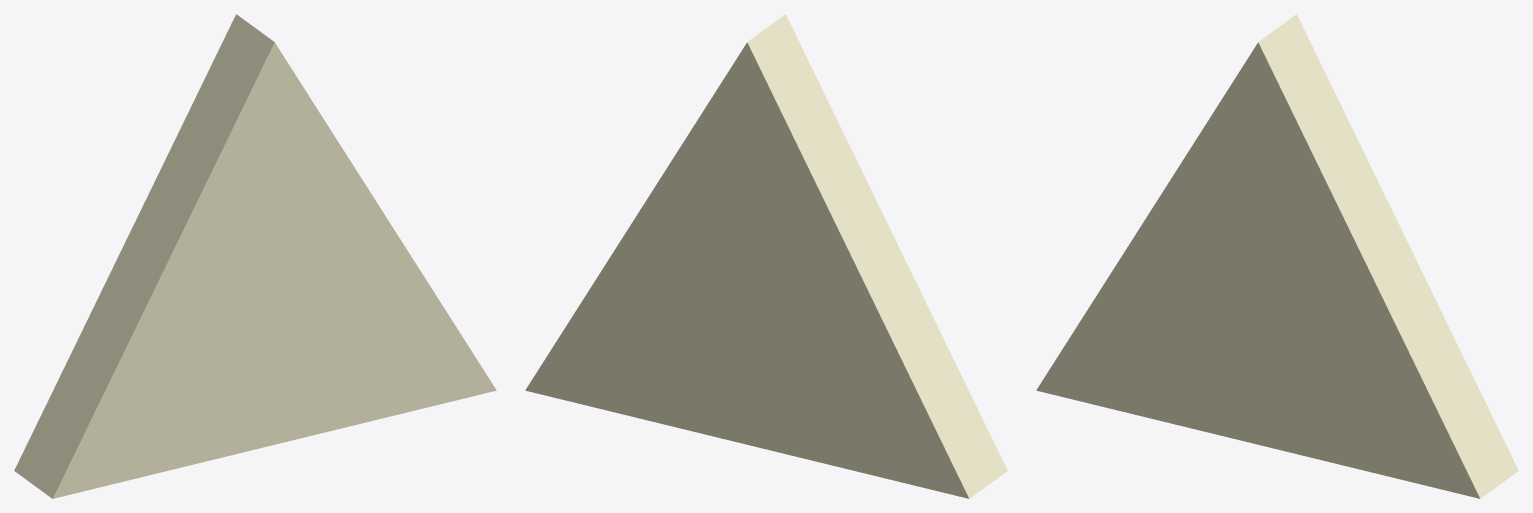
The model's file is Wall_Roof_60_Center.glb.
3 renders of one model, left to right at view 1: azimuth 30°, elevation 25°; view 2: azimuth 150°, elevation 25°; view 3: azimuth 330°, elevation 25°, orthographic.
Parts seen in each view (by area): view 1: Wall Roof 60 Center; view 2: Wall Roof 60 Center; view 3: Wall Roof 60 Center.
Part boxes in pixels (<box>): Wall Roof 60 Center: <box>14,14,496,498</box>; Wall Roof 60 Center: <box>525,14,1007,498</box>; Wall Roof 60 Center: <box>1036,14,1518,498</box>.
Bounding box in the file's own units: 2 × 1.73 × 0.3.
